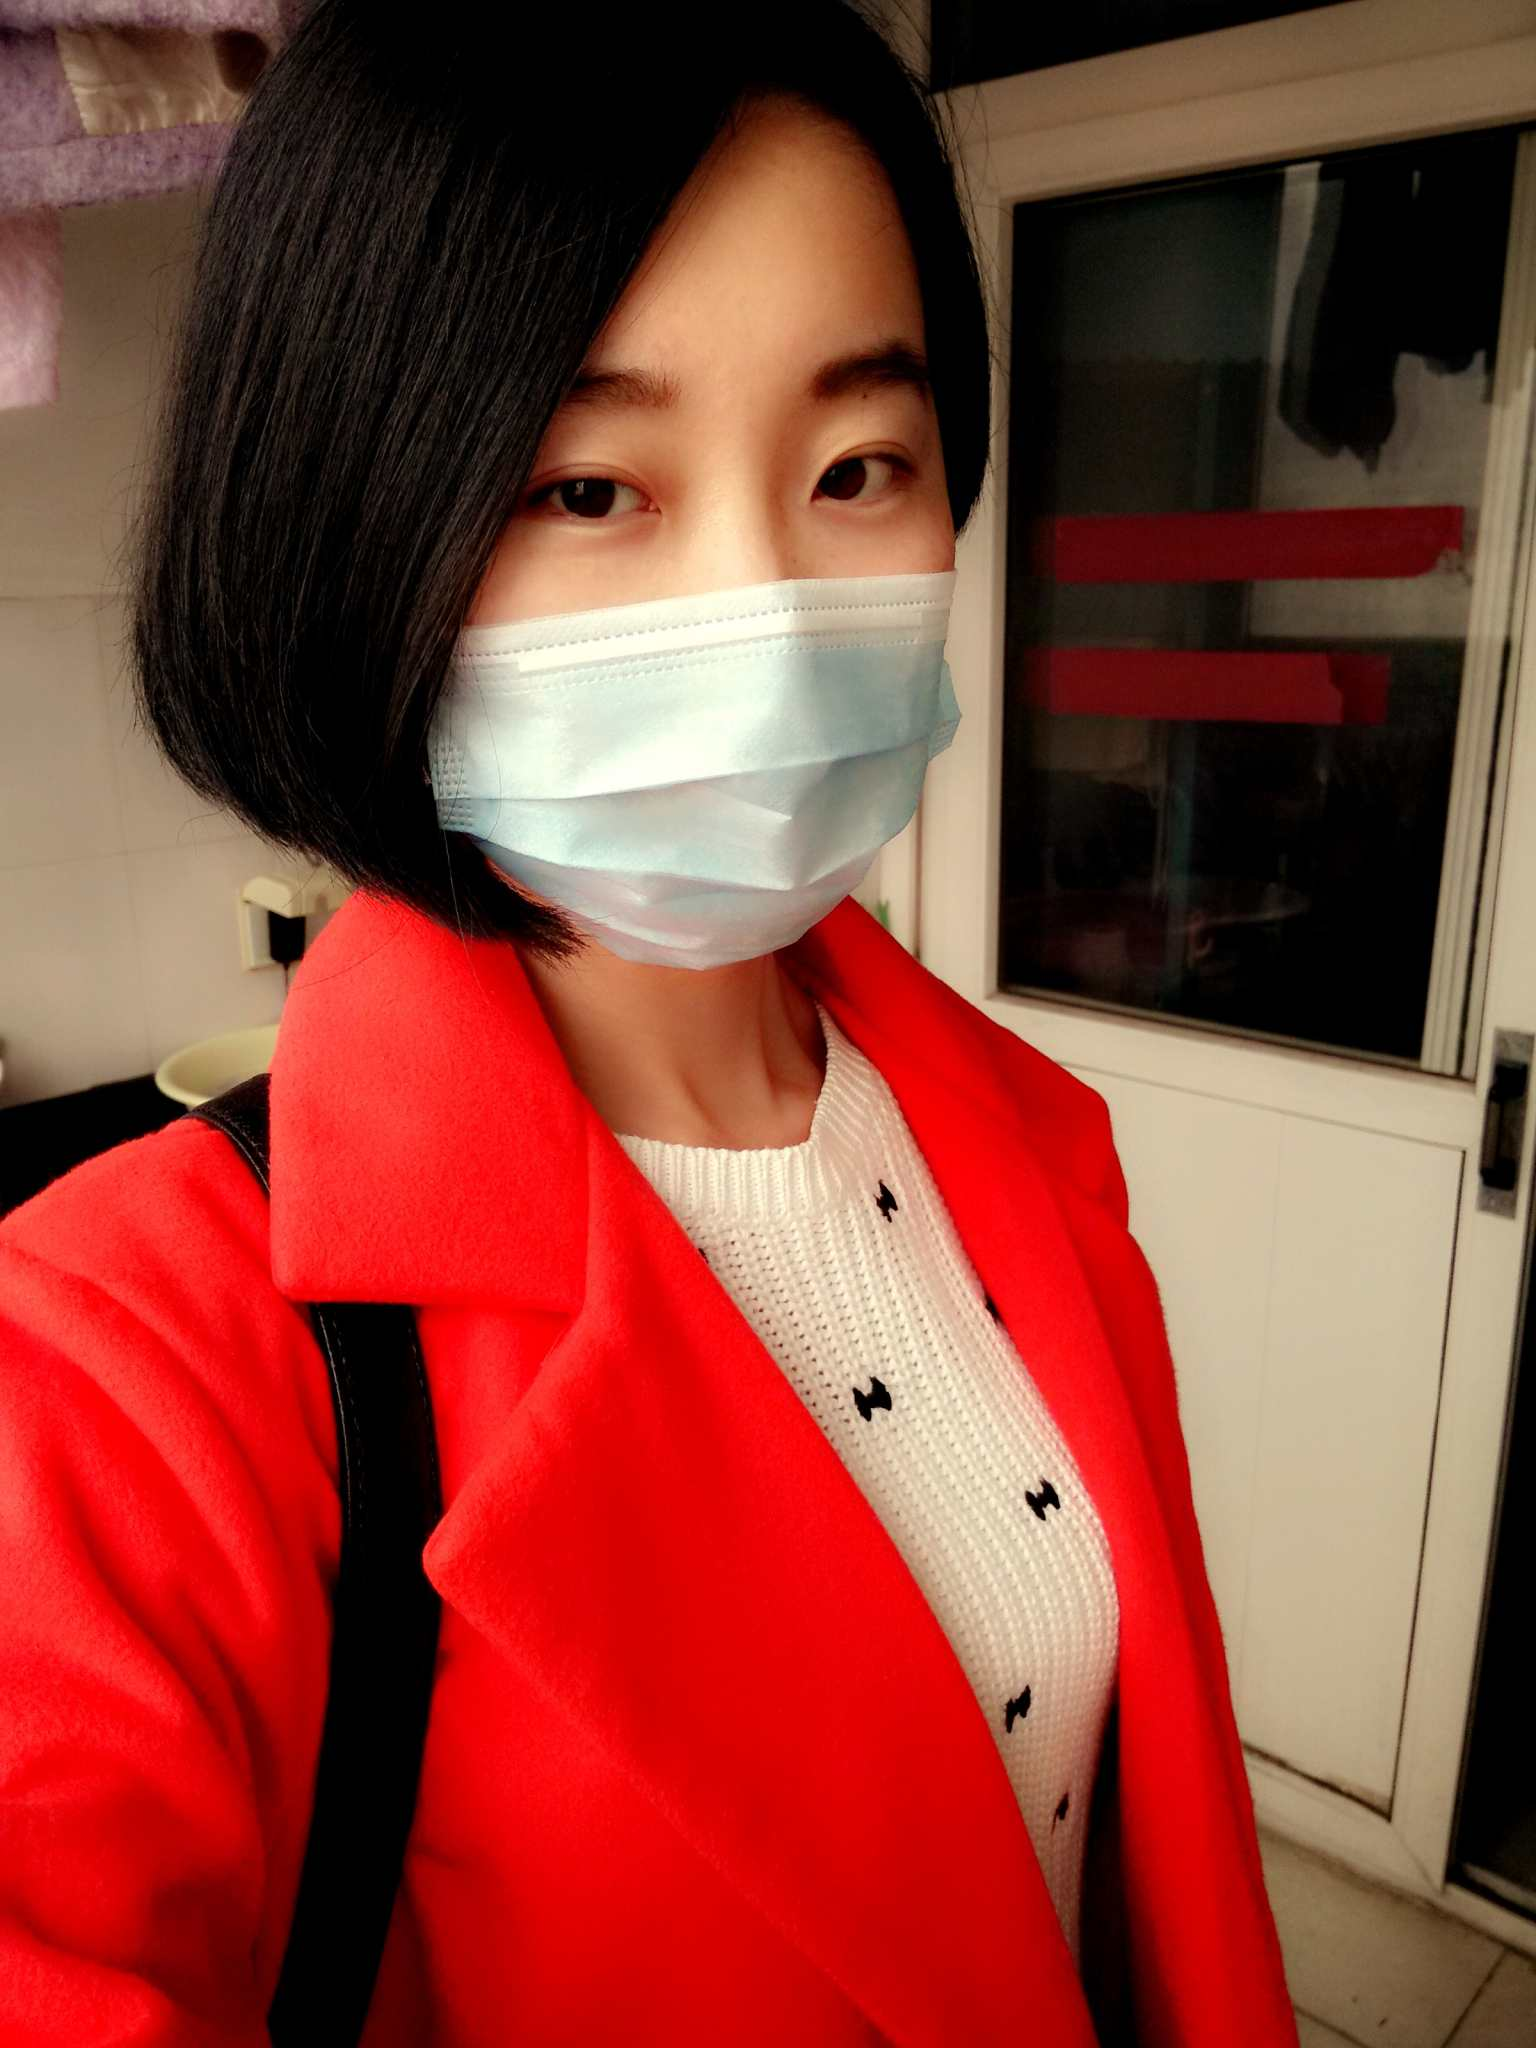mask: (435, 382, 1041, 979)
